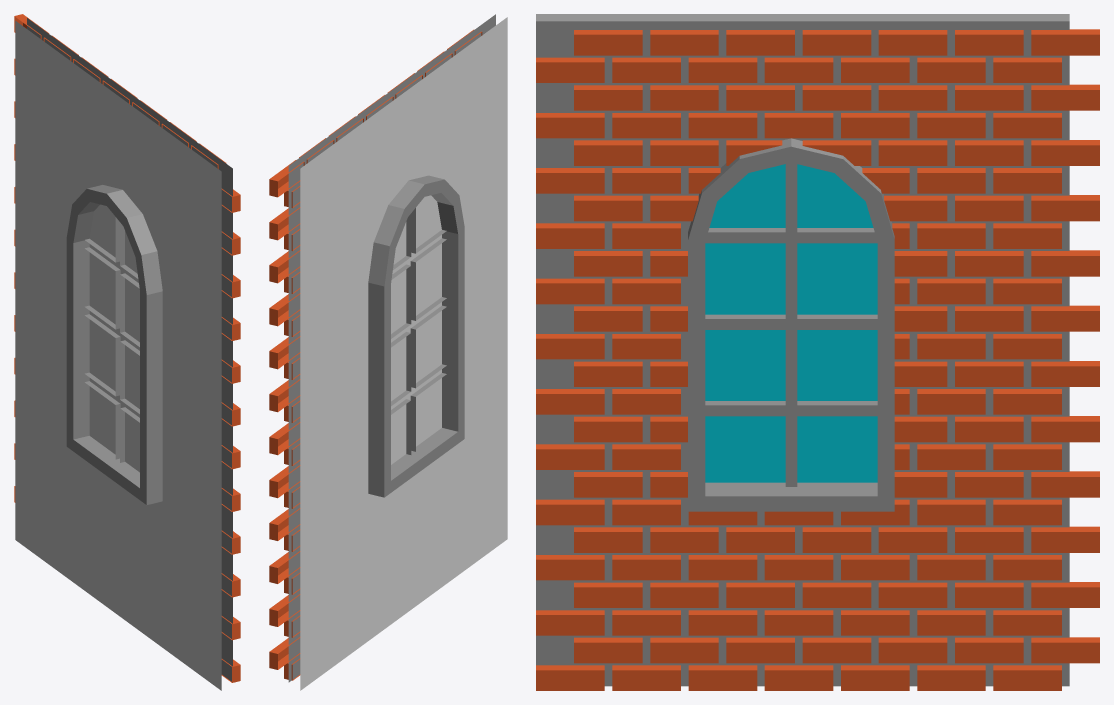
Rendered from windowwall.fbx.
3 renders of one model, left to right at view 1: azimuth 30°, elevation 25°; view 2: azimuth 150°, elevation 25°; view 3: azimuth 270°, elevation 25°, orthographic. The views are drawn at different scales.
Visible parts, largest first — view 1: Plane.002, WindwoBoo, Plane.001, Cube.000, Cube.003; view 2: Plane.002, WindwoBoo, Plane.001, Cube.000, Cube.003; view 3: Cube.000, Plane.001, Cube, WindwoBoo, Cube.003, Plane.002.
Part boxes in pixels (x1=…): Plane.002: x1=15, y1=21, x2=221, y2=690; WindwoBoo: x1=66, y1=185, x2=162, y2=504; Plane.001: x1=27, y1=18, x2=232, y2=681; Cube.000: x1=14, y1=14, x2=240, y2=682; Cube.003: x1=85, y1=217, x2=139, y2=462; Plane.002: x1=300, y1=17, x2=507, y2=690; WindwoBoo: x1=368, y1=175, x2=464, y2=497; Plane.001: x1=288, y1=14, x2=495, y2=682; Cube.000: x1=269, y1=29, x2=482, y2=680; Cube.003: x1=391, y1=208, x2=446, y2=454; Cube.000: x1=536, y1=29, x2=1099, y2=690; Plane.001: x1=536, y1=21, x2=1069, y2=686; Cube: x1=705, y1=164, x2=877, y2=482; WindwoBoo: x1=688, y1=138, x2=894, y2=511; Cube.003: x1=705, y1=162, x2=877, y2=486; Plane.002: x1=536, y1=14, x2=1069, y2=21.
Size of the model in its own units: 80 by 973 by 740.
